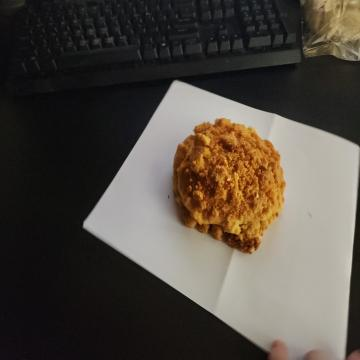soboru_bread: (174, 119, 284, 256)
